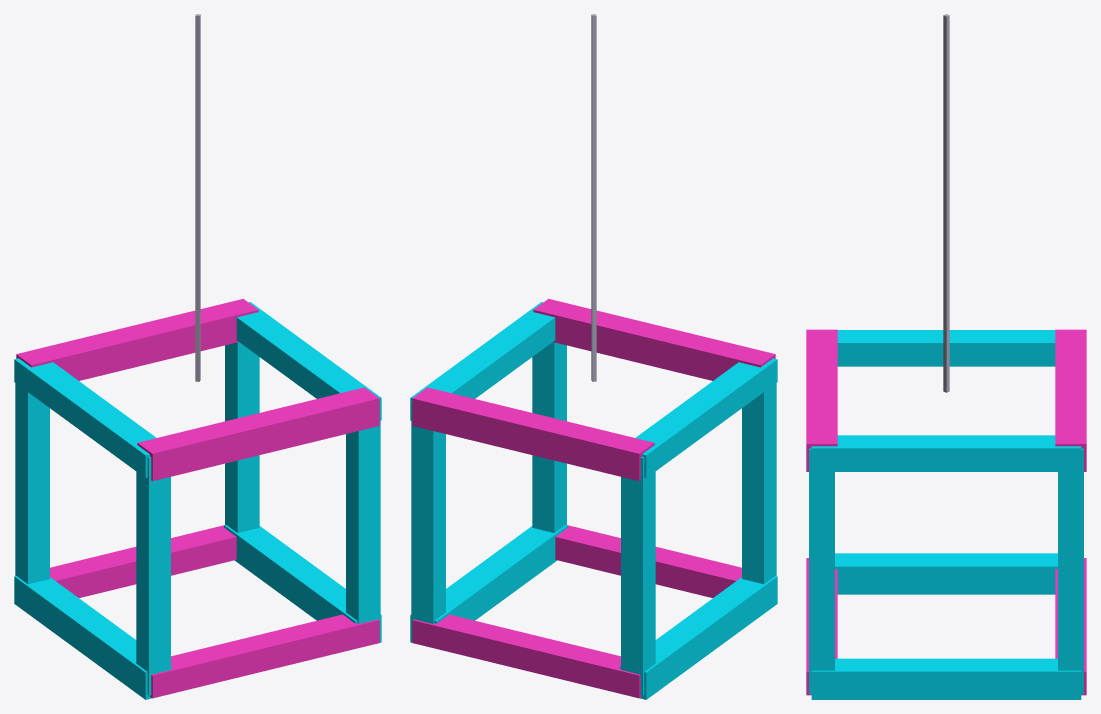
The model's file is HangPixel.fbx.
3 views of the same model, side by side, from view 1: azimuth 30°, elevation 25°; view 2: azimuth 150°, elevation 25°; view 3: azimuth 270°, elevation 25° (orthographic). The views are drawn at different scales.
Visible parts, largest first — view 1: HangPixel; view 2: HangPixel; view 3: HangPixel.
Part boxes in pixels (<box>): HangPixel: <box>14,14,381,699</box>; HangPixel: <box>410,14,777,699</box>; HangPixel: <box>806,14,1086,699</box>.
Bounding box in the file's own units: 270 × 665 × 270.
